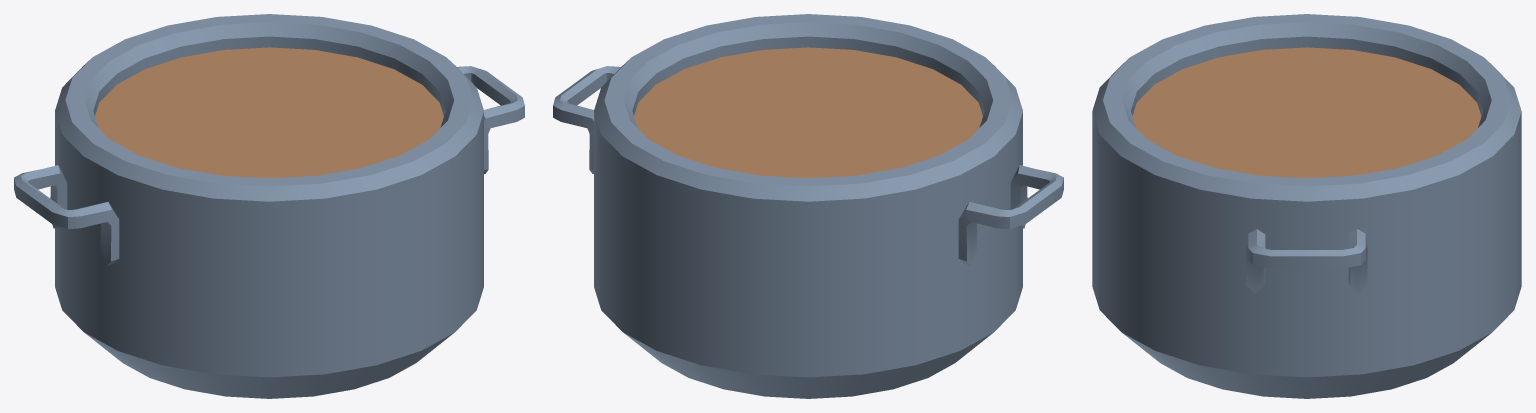
The model's file is Pot 1 Filled.glb.
The picture shows the model from 3 angles, left to right: view 1: azimuth 30°, elevation 25°; view 2: azimuth 150°, elevation 25°; view 3: azimuth 270°, elevation 25°; orthographic projection.
Visible parts, largest first — view 1: Environment_Pot_1_Filled; view 2: Environment_Pot_1_Filled; view 3: Environment_Pot_1_Filled.
Boxes of the visible parts, x1=… form: Environment_Pot_1_Filled: x1=14, y1=14, x2=524, y2=398; Environment_Pot_1_Filled: x1=553, y1=14, x2=1063, y2=398; Environment_Pot_1_Filled: x1=1092, y1=14, x2=1521, y2=398.
Bounding box in the file's own units: 1.58 × 0.731 × 1.25.
Materials: 1 (1 with a texture image).
